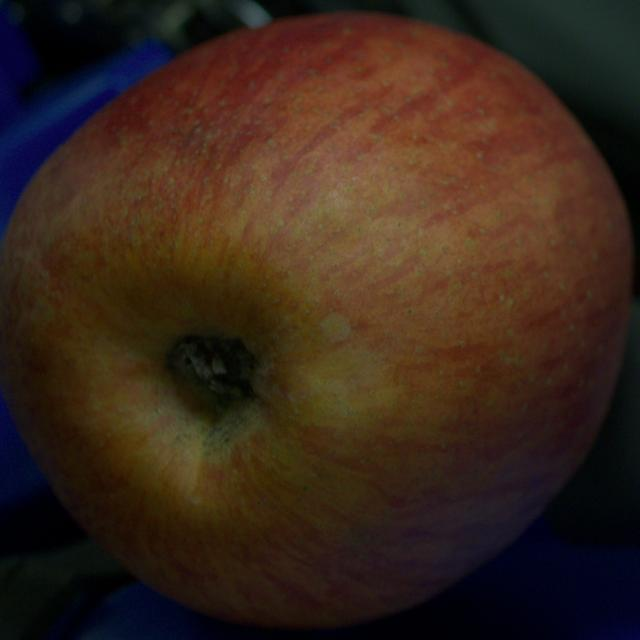apple: (0, 14, 632, 628)
